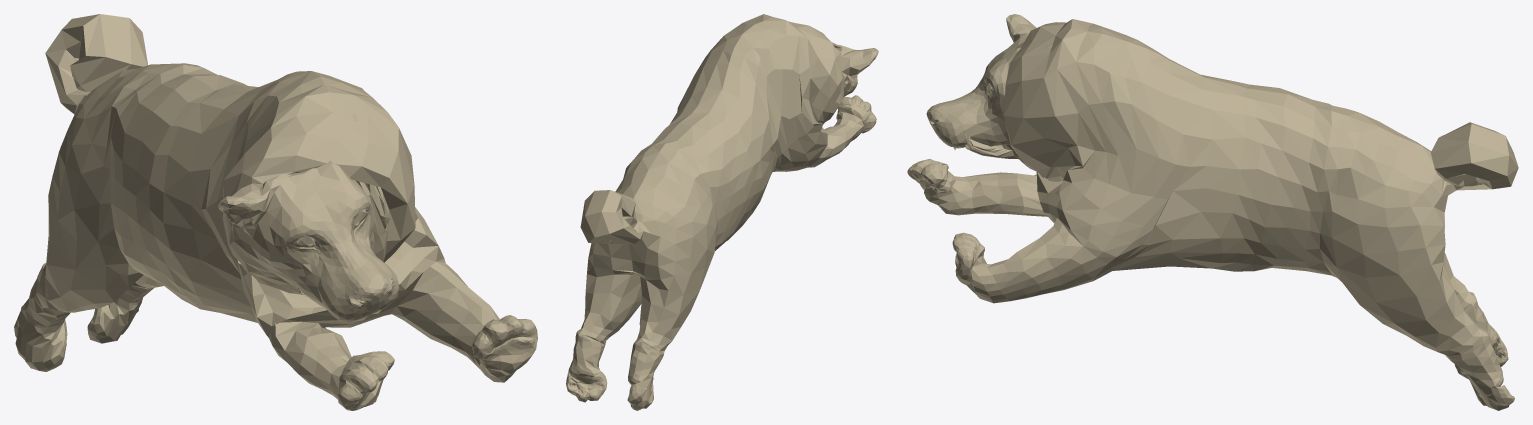
3 views of the same model, side by side, from view 1: azimuth 30°, elevation 25°; view 2: azimuth 150°, elevation 25°; view 3: azimuth 270°, elevation 25° (orthographic). The views are drawn at different scales.
Parts seen in each view (by area): view 1: world; view 2: world; view 3: world.
Boxes of the visible parts, <box> form: world: <box>14,14,537,410</box>; world: <box>566,14,878,410</box>; world: <box>907,14,1518,410</box>.
Size of the model in its own units: 0.4979 by 0.7692 by 1.16.
